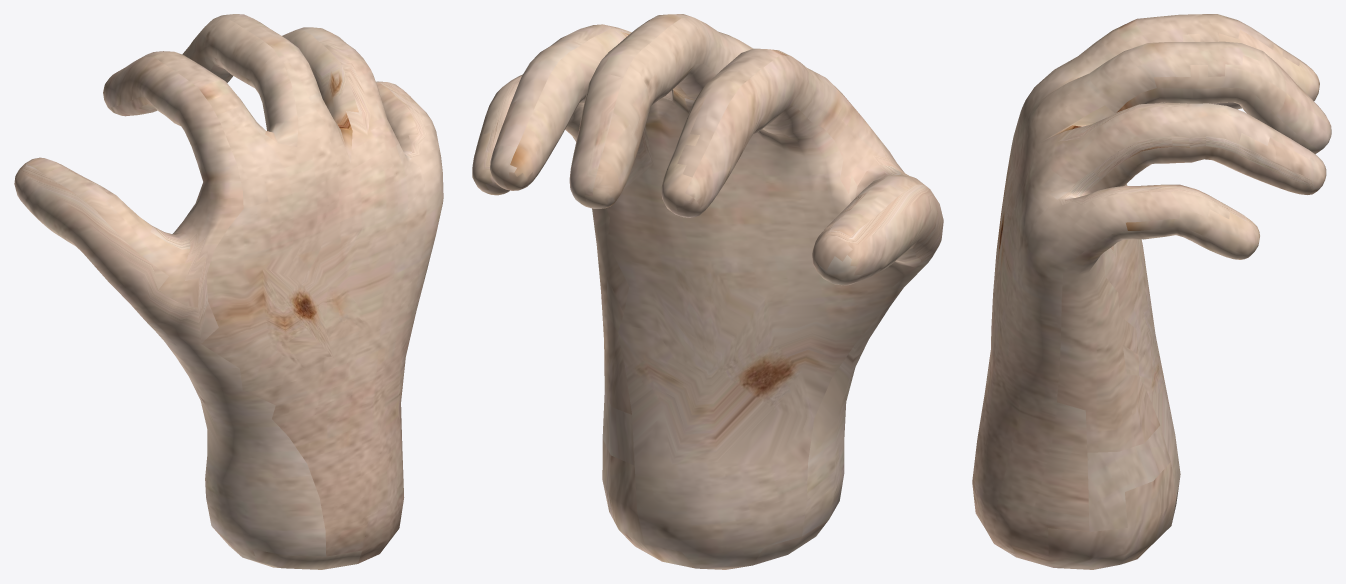
Rendered from hand10.obj.
3 renders of one model, left to right at view 1: azimuth 30°, elevation 25°; view 2: azimuth 150°, elevation 25°; view 3: azimuth 270°, elevation 25°, orthographic. The views are drawn at different scales.
Visible parts, largest first — view 1: Cube.001; view 2: Cube.001; view 3: Cube.001.
Part boxes in pixels (x1,y1,x2,y2): Cube.001: (14, 14, 443, 569); Cube.001: (472, 14, 943, 569); Cube.001: (972, 14, 1331, 569).
Size of the model in its own units: 3.65 by 4.75 by 3.04.
